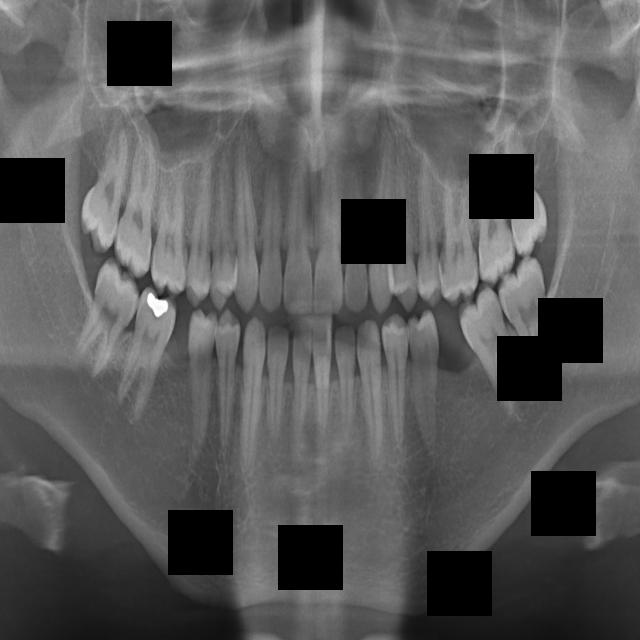3M ESPE Implant: (74, 122, 134, 257)
AGS Medikal Implant: (345, 161, 367, 314)
AMerOss Implant: (367, 141, 395, 316)
Amalgam filling: (394, 175, 418, 313)
Anthogyr Implant: (407, 153, 443, 309)
Bicon Implant: (431, 173, 481, 306)
BioHorizons Implant: (468, 154, 518, 287)
BioLife Implant: (503, 126, 550, 257)
Biomet 3i Implant: (507, 315, 507, 316)
Blue Sky Bio Implant: (450, 285, 543, 422)
Caries: (112, 135, 160, 280)
Composite filling: (407, 309, 446, 453)
Cowellmedi Implant: (380, 314, 419, 452)
Crown: (355, 320, 386, 460)
DENTSPLY Implant: (335, 327, 356, 440)
Dentatus Implant: (312, 338, 337, 444)
Dentis Implant: (289, 331, 313, 452)
Dentium Implant: (268, 323, 292, 446)
Euroteknika Implant: (240, 316, 266, 470)
Filling: (205, 309, 243, 453)
Frontier Implant: (178, 309, 217, 460)
Hiossen Implant: (168, 277, 169, 278)
Implant: (108, 284, 183, 431)
Keystone Dental Implant: (65, 255, 149, 386)
MIS Implant: (185, 150, 220, 308)
Mandible: (209, 155, 244, 311)
Maxilla: (234, 143, 258, 313)
Megagen Implant: (259, 165, 282, 314)
Neodent Implant: (283, 161, 312, 316)
Neoss Implant: (315, 158, 343, 313)
